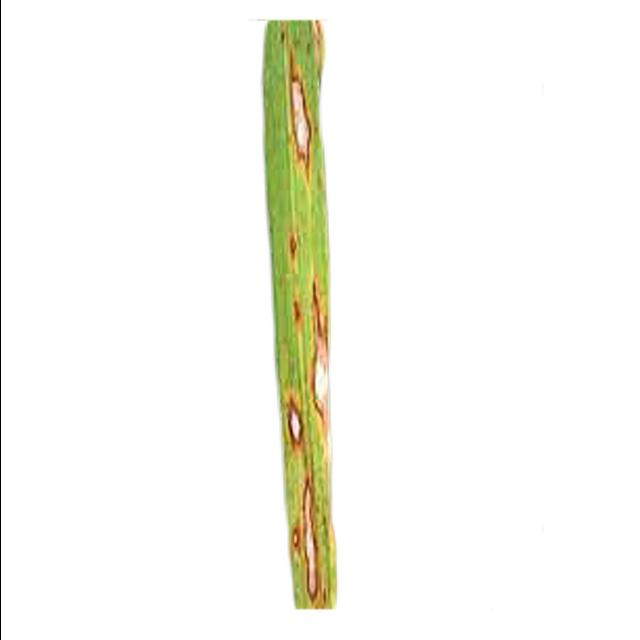Leaf blast: (146, 17, 519, 617)
